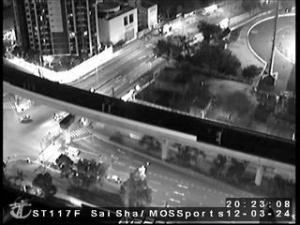vehicle: (108, 176, 120, 182), (20, 116, 30, 122)
